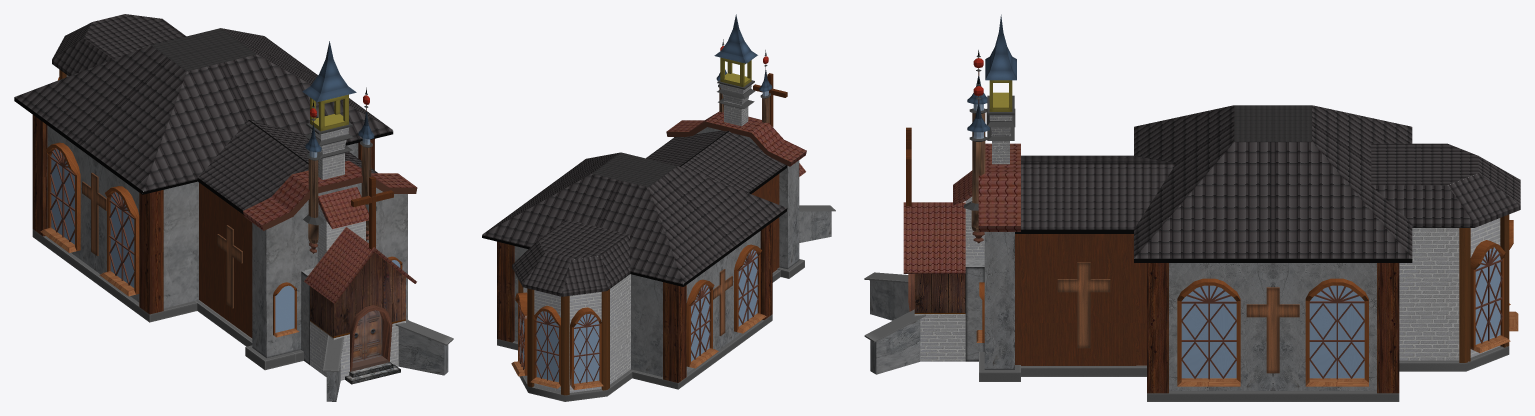
3 renders of one model, left to right at view 1: azimuth 30°, elevation 25°; view 2: azimuth 150°, elevation 25°; view 3: azimuth 270°, elevation 25°, orthographic. The views are drawn at different scales.
Parts seen in each view (by area): view 1: Base; view 2: Base; view 3: Base.
Part boxes in pixels (x1,y1,x2,y2): Base: (14,14,453,401); Base: (482,14,835,401); Base: (864,14,1520,401).
Bounding box in the file's own units: 423 × 491 × 888.
